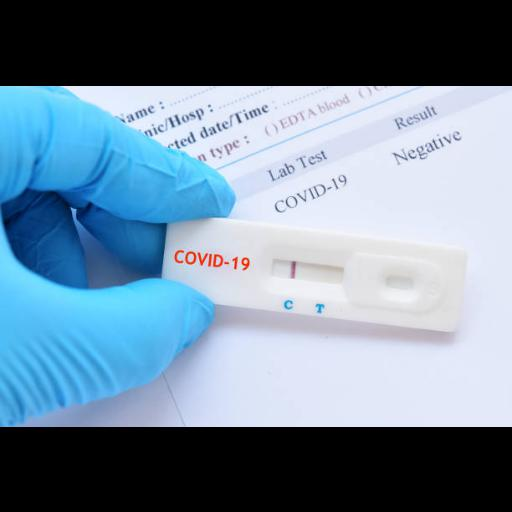Neg: (162, 213, 468, 334)
